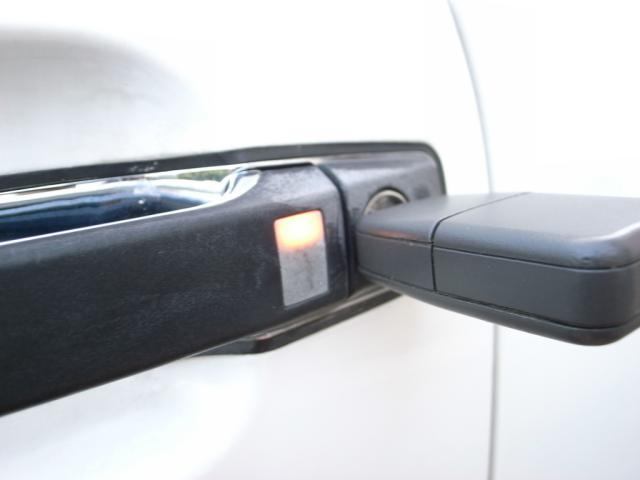Door-handle: (0, 150, 448, 424)
